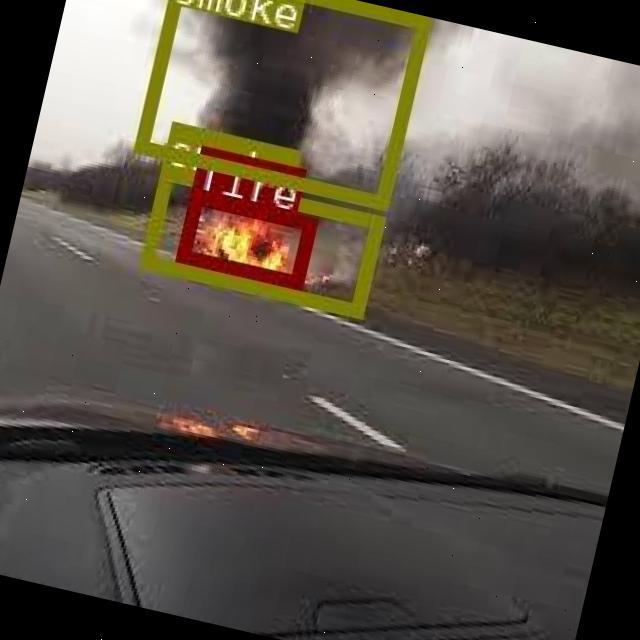fire: (174, 188, 314, 286)
smoke: (132, 0, 428, 207), (138, 166, 381, 314)
